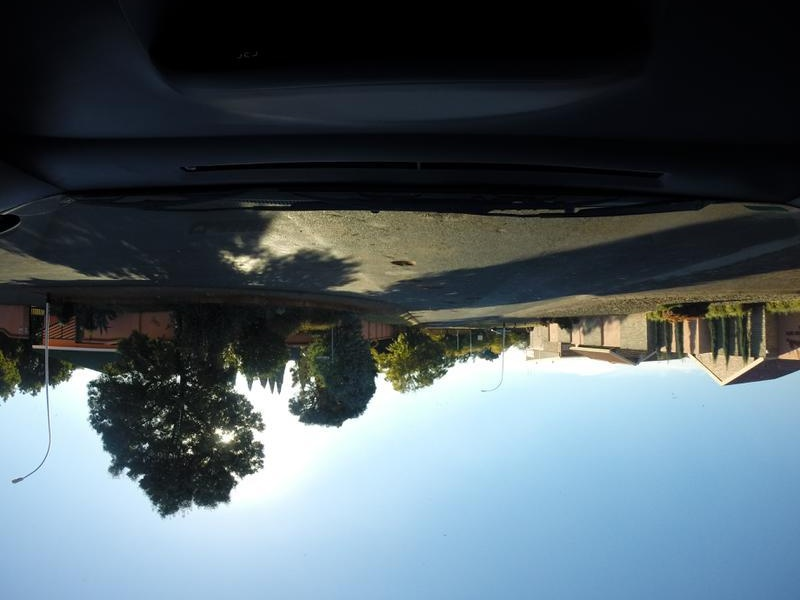pothole: (389, 256, 412, 270), (421, 283, 444, 293), (401, 277, 423, 287), (441, 300, 457, 307), (461, 297, 482, 302)
